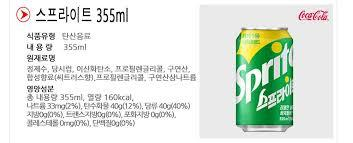sprite: (237, 22, 295, 137)
